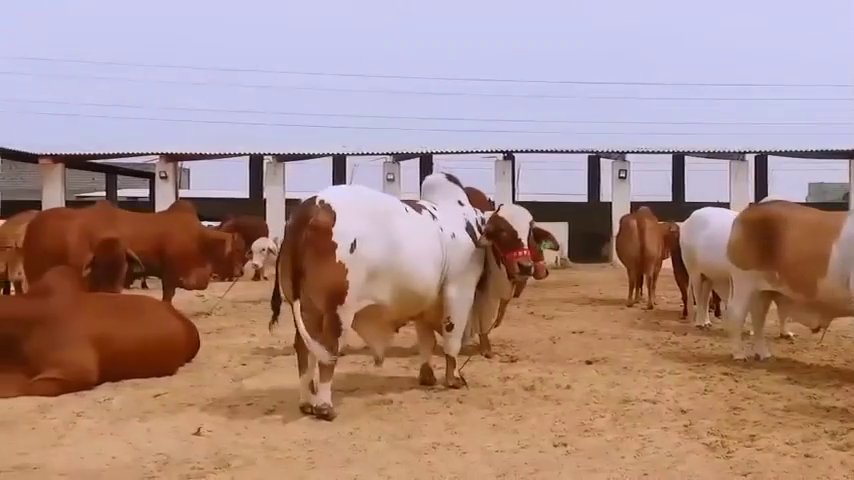bo: (274, 158, 568, 430), (1, 268, 214, 410), (724, 169, 854, 396), (113, 179, 252, 309), (19, 202, 146, 300), (668, 193, 746, 334), (605, 188, 682, 318), (236, 222, 288, 286)
